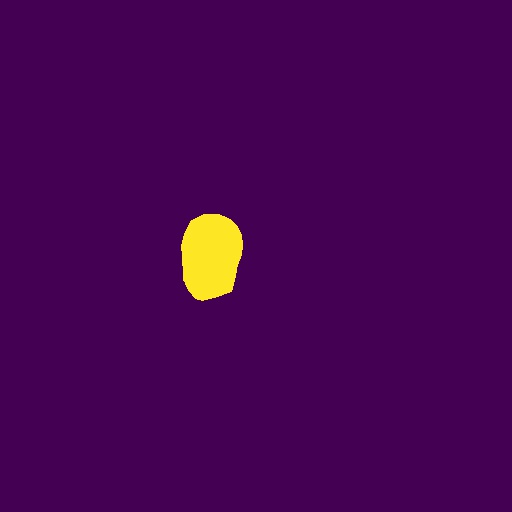Pituirity_tumour: (181, 214, 243, 301)
